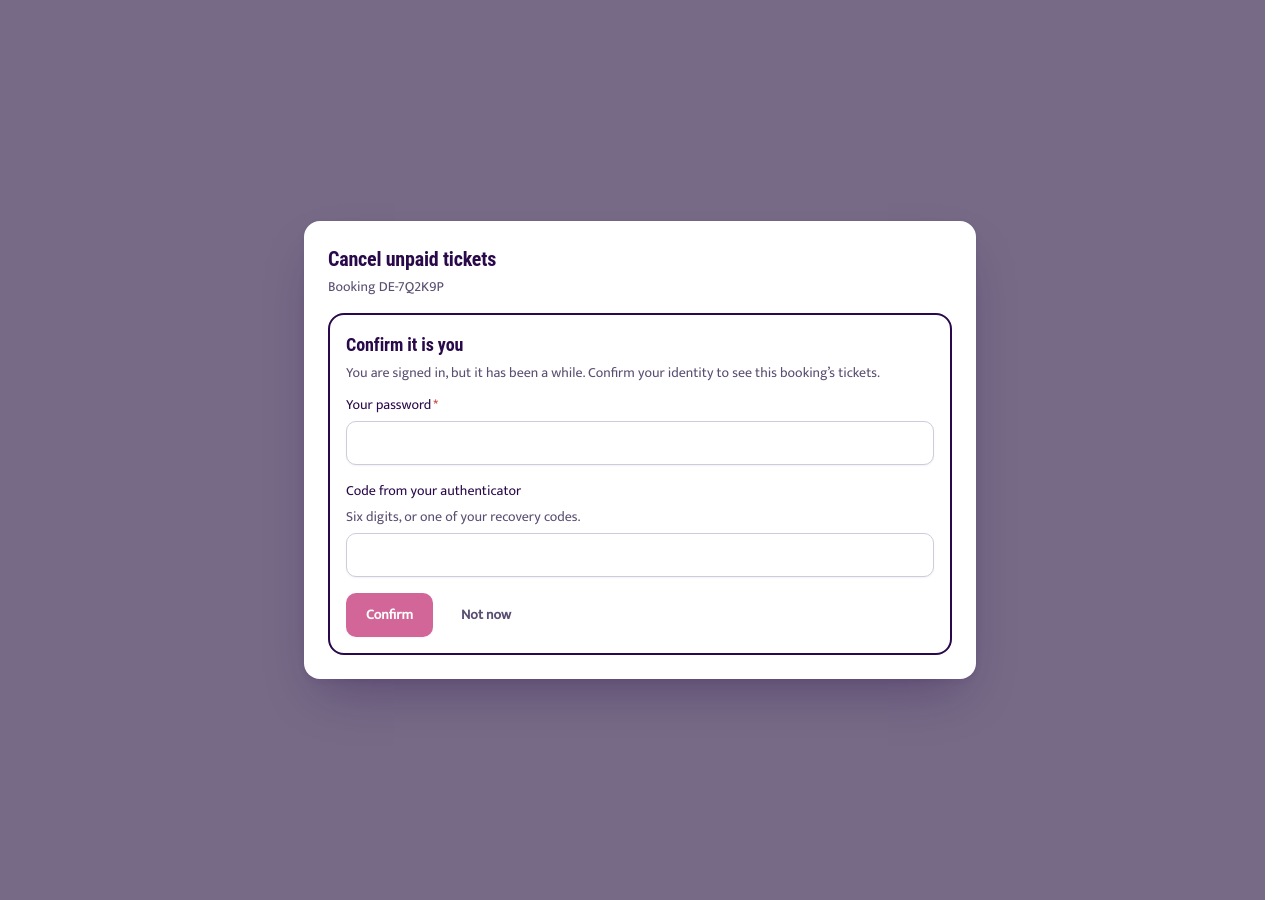
Test: what it reads, and what is ticked to start with › asks for a second factor before it can read, then reads again
Expected: the text "see this booking’s tickets" is shown, [732,361,877,384]
Expected: the element "Tickets to cancel" is not shown
Step 1. Type "correct horse" into the password field labelled "Your password*" → (640, 443), box [346,421,934,465]
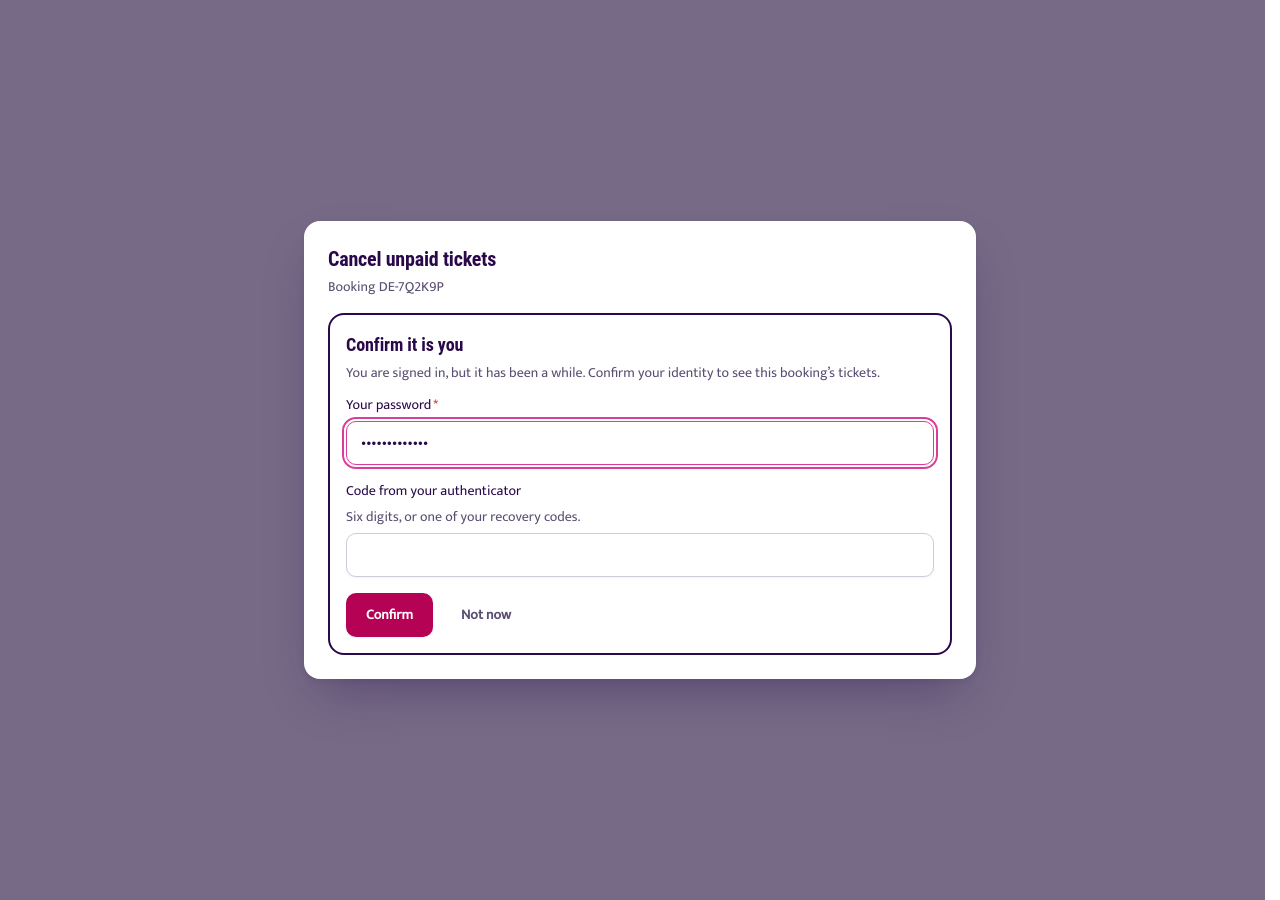
Step 2. Click the button "Confirm" → (389, 615), box [346,593,433,637]
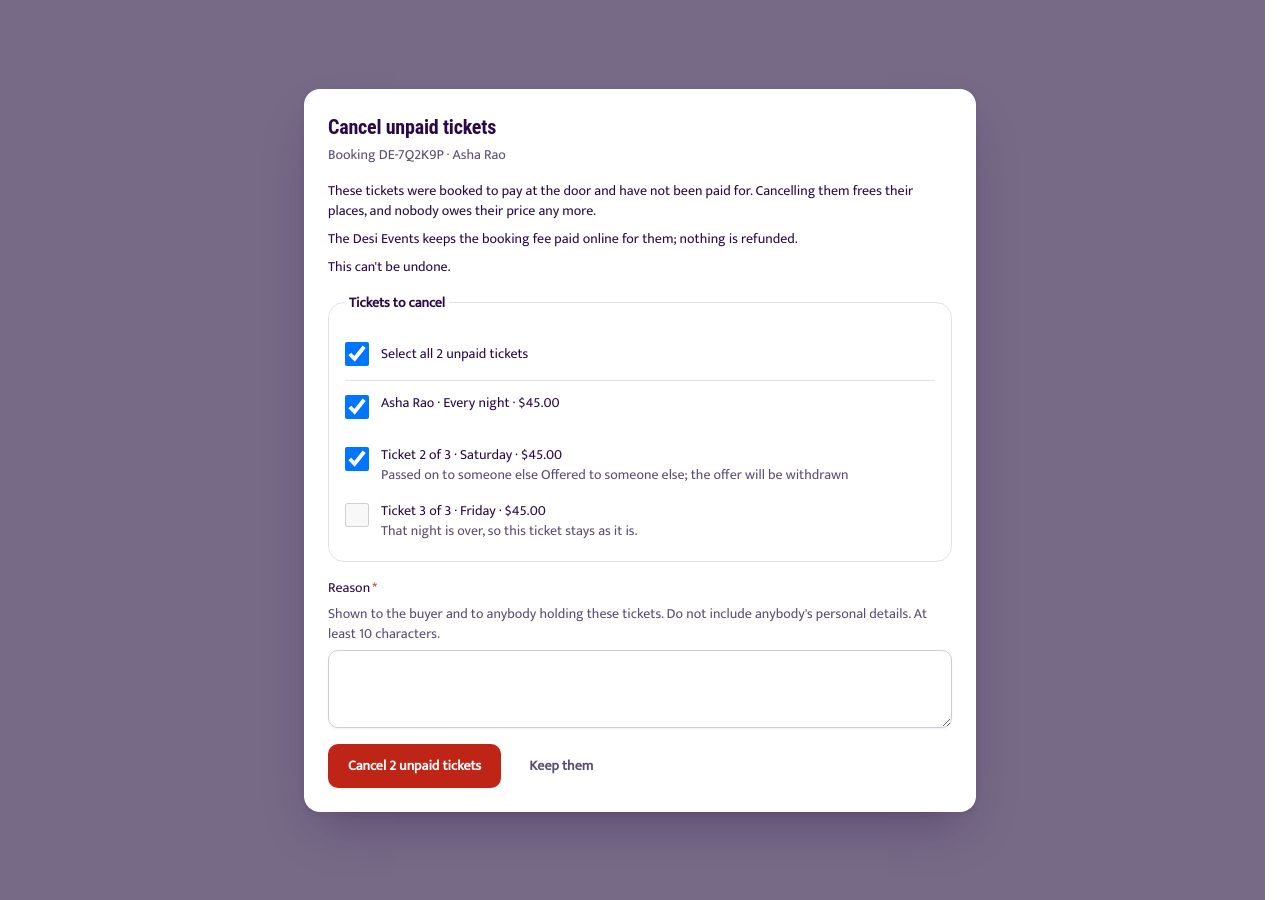
Expected: the element "Tickets to cancel" is shown, [328,292,952,562]
